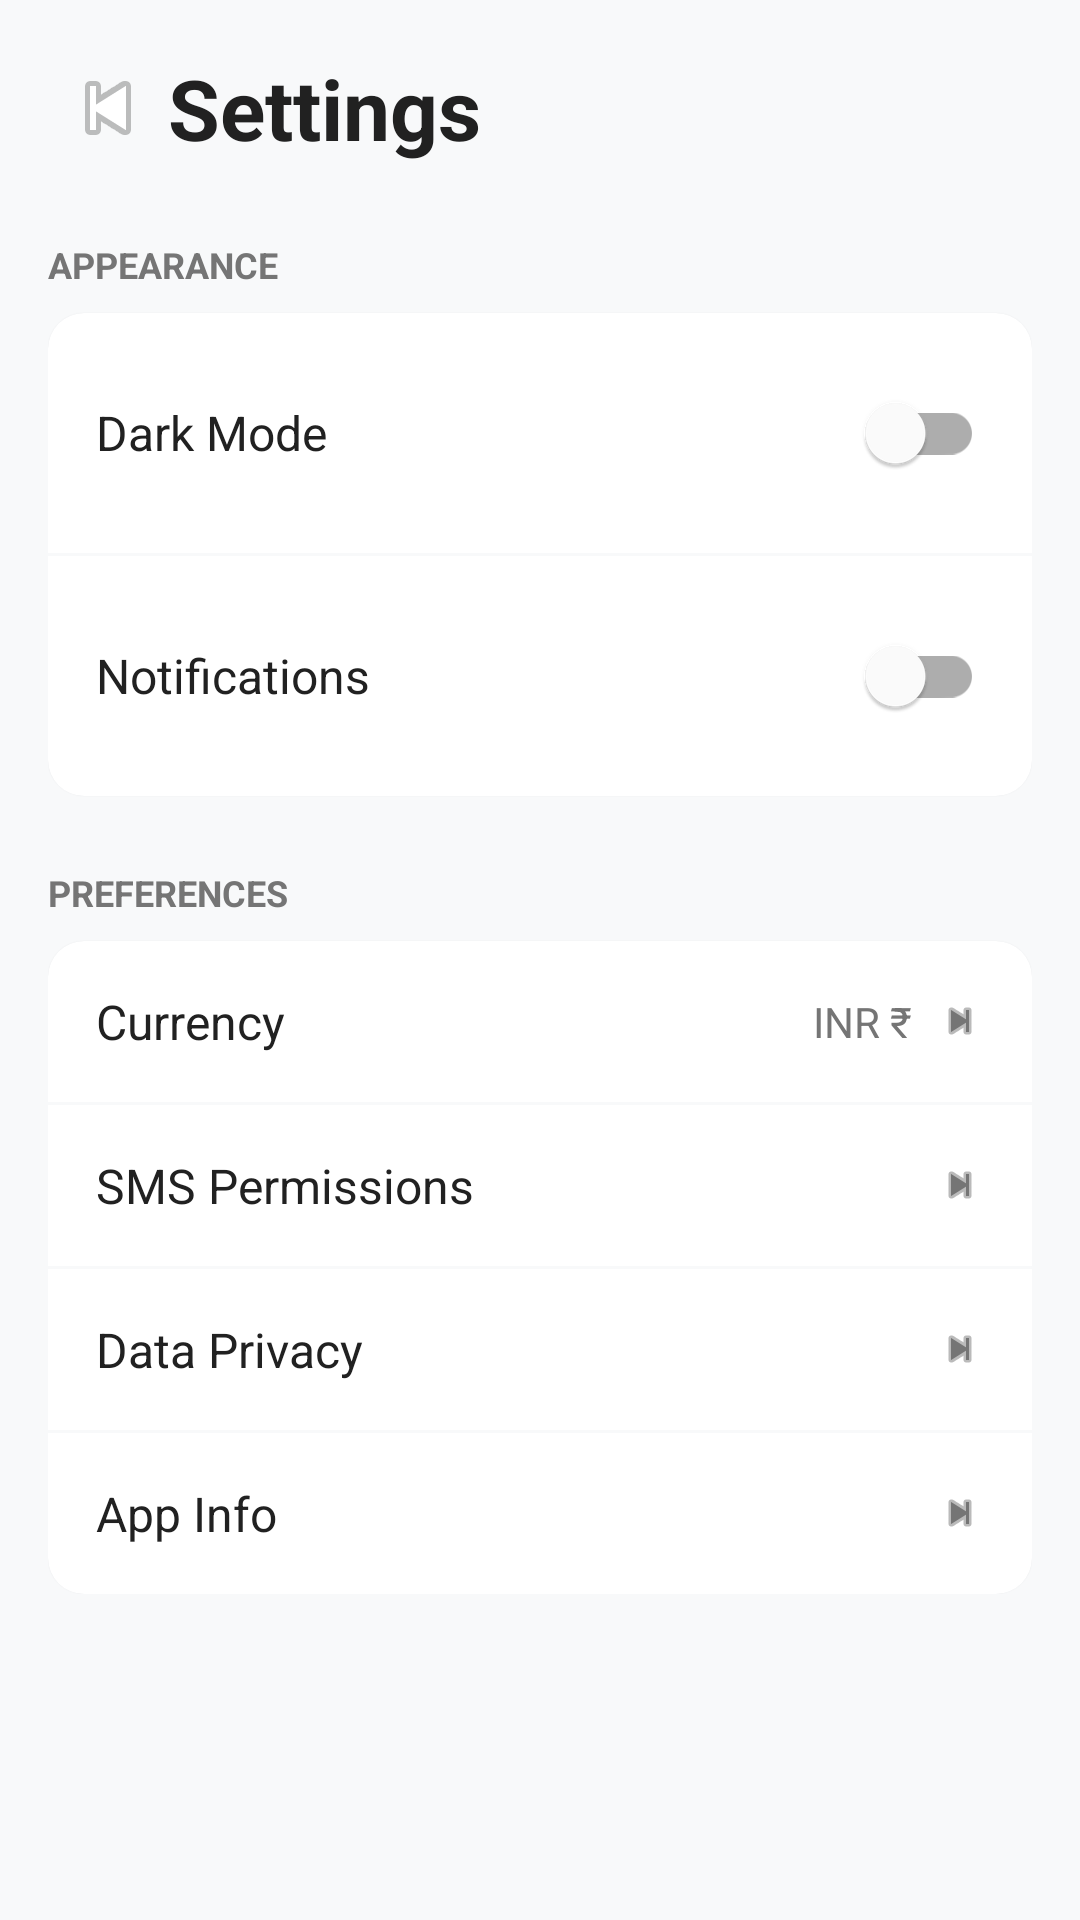

Named icons in this screenshot (1080w x 1920h) and their bounding boxes, (x1, y1, x2, y2):
Back: (85, 81, 131, 135)
next: (948, 1007, 972, 1035), (948, 1171, 972, 1199), (948, 1335, 972, 1363), (948, 1499, 972, 1527)
